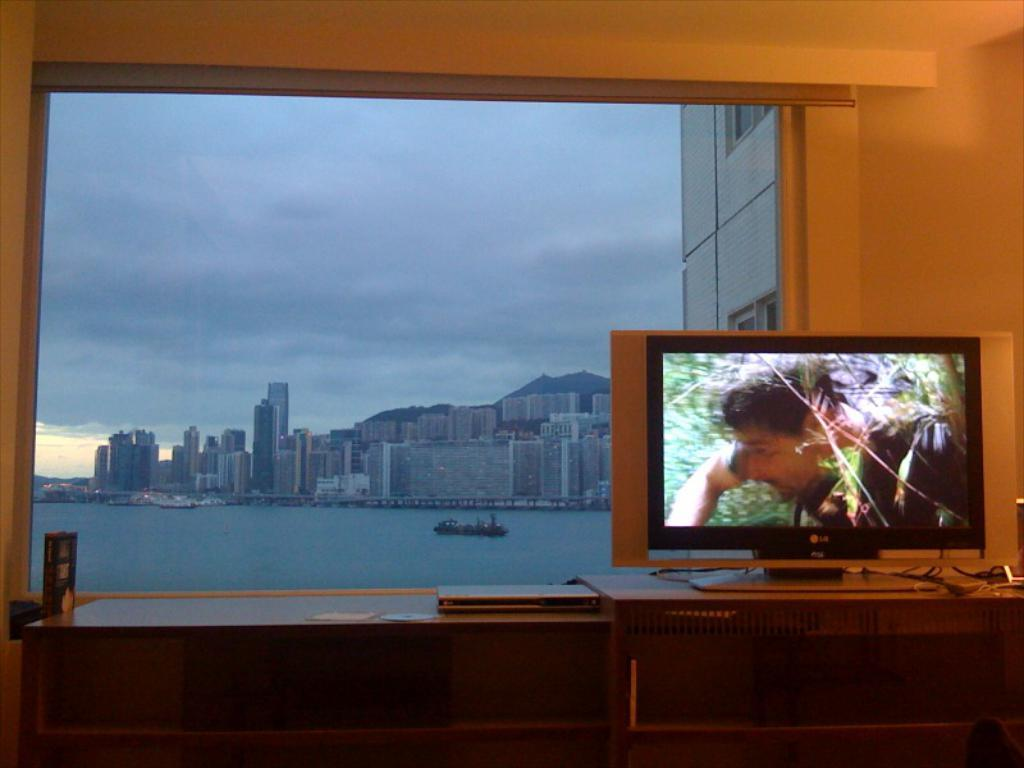Computer-monitor: (603, 328, 1020, 589)
